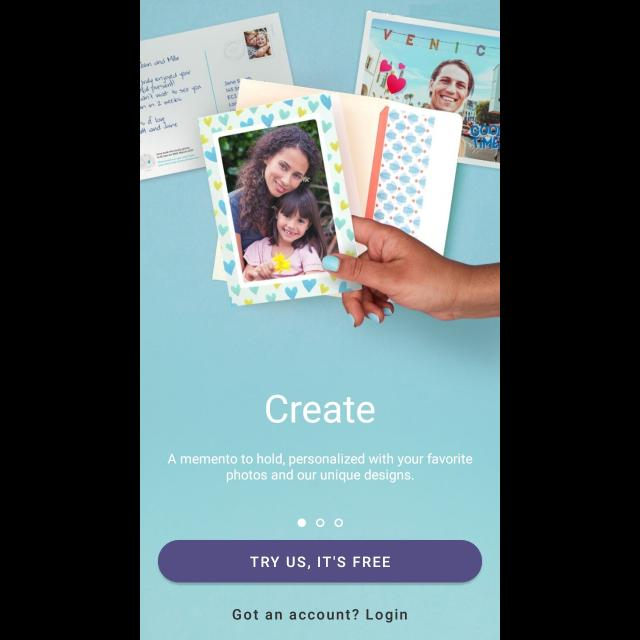backgroundimage: (140, 1, 500, 640)
image: (140, 11, 500, 329)
pageindicator: (297, 518, 343, 528)
text: (168, 453, 472, 483), (266, 394, 374, 424), (232, 609, 408, 623)
textbutton: (158, 540, 482, 582)
